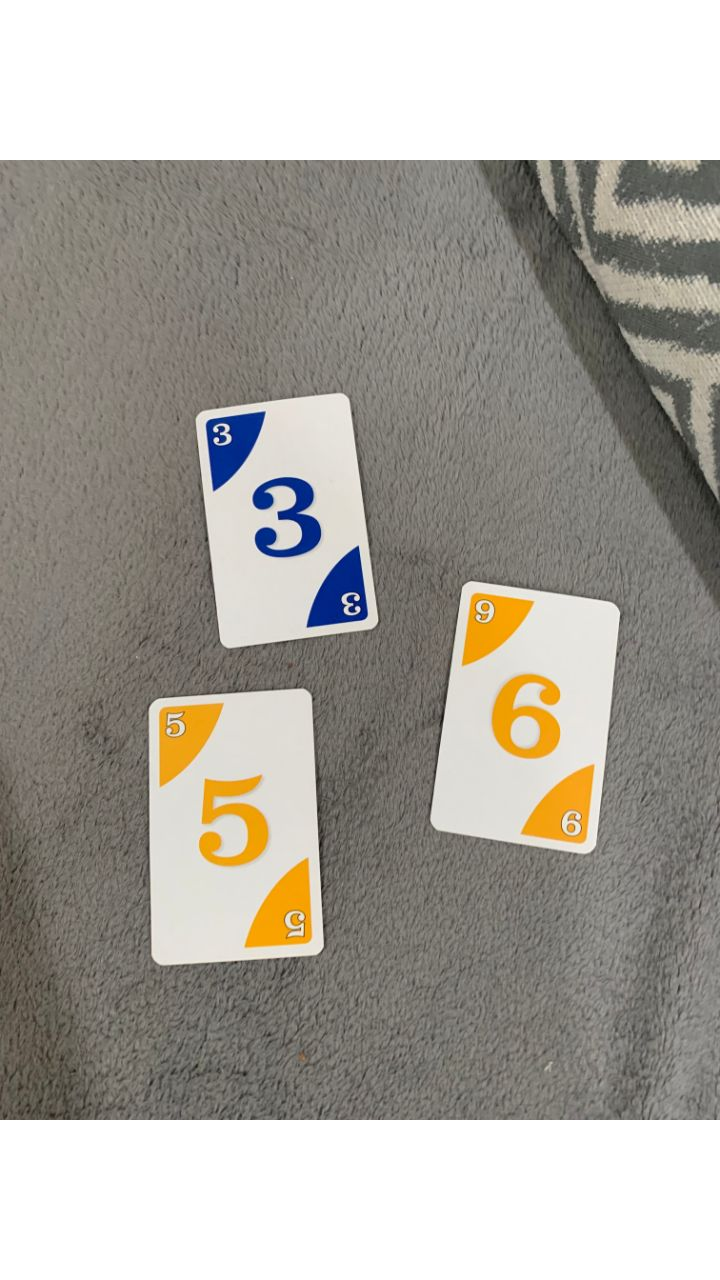five: (144, 687, 328, 965)
six: (425, 582, 621, 857)
three: (192, 393, 378, 650)
